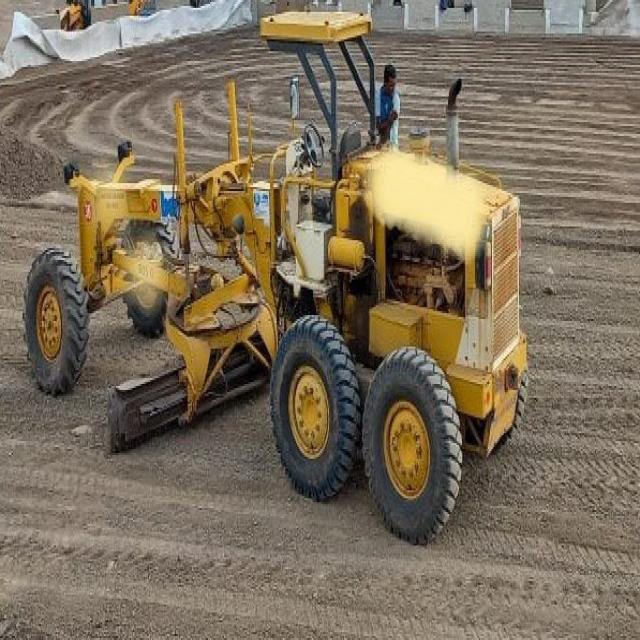buldozerpayloadergrader: (20, 2, 529, 533)
